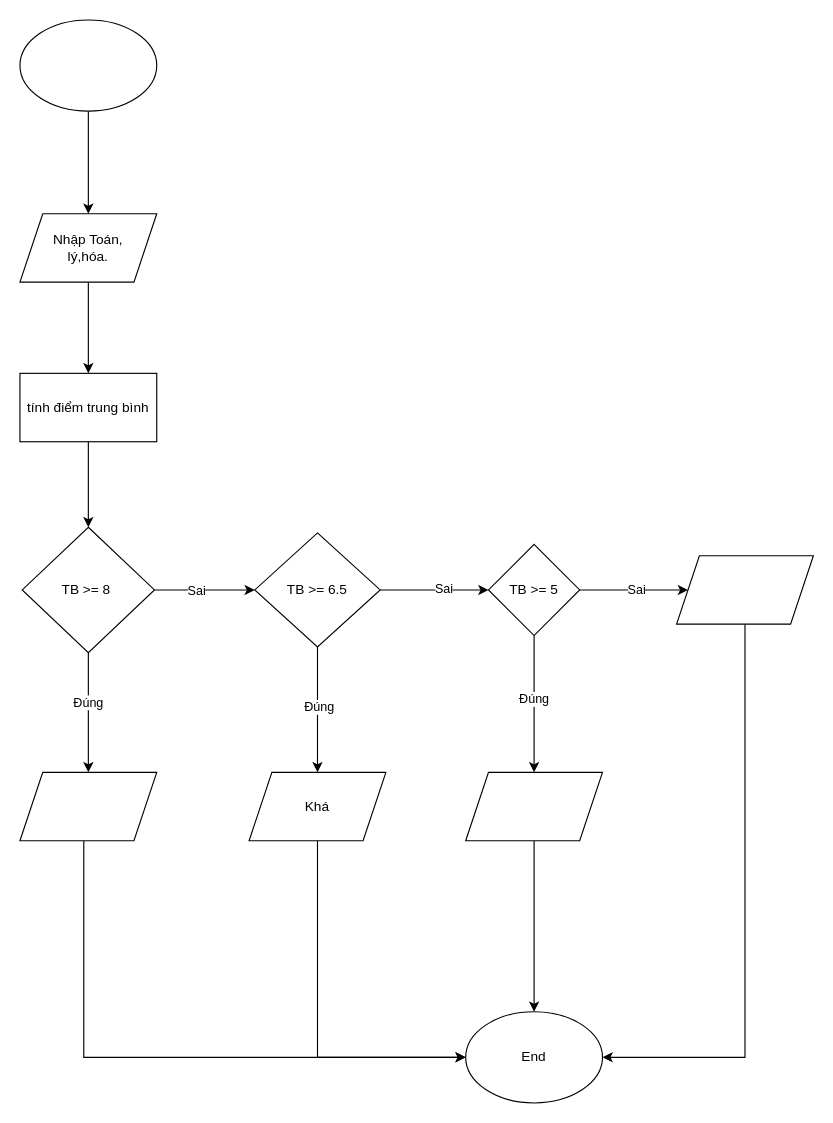
This 833x1123 diagram has some shape labels left out. Each missing label, with the centre of its shape:
"Giỏi" belongs at [88,806].
"Start" belongs at [88,65].
"Trung Bình" belongs at [533,806].
"Yếu" belongs at [744,589].
